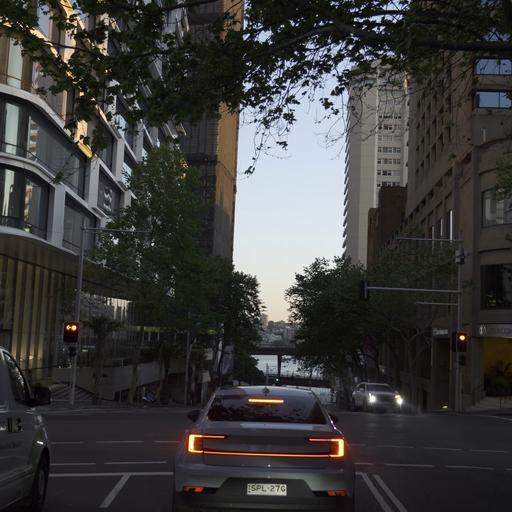Street light: (359, 232, 466, 413), (68, 223, 152, 405)
